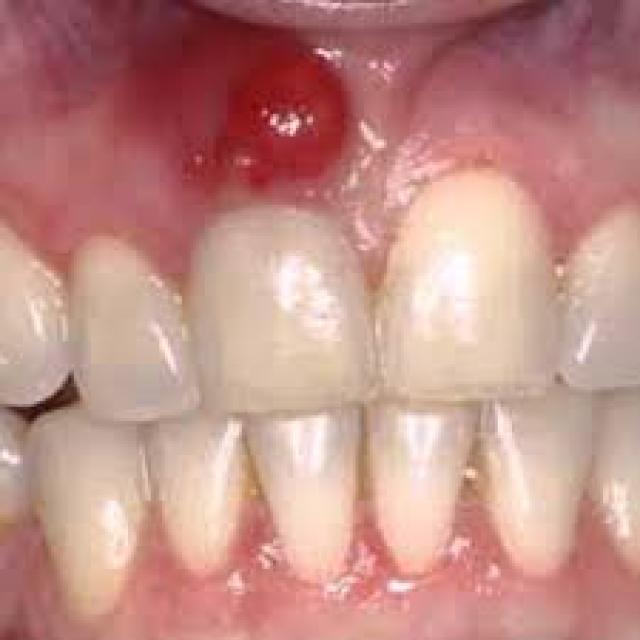abscess: (129, 20, 364, 196)
